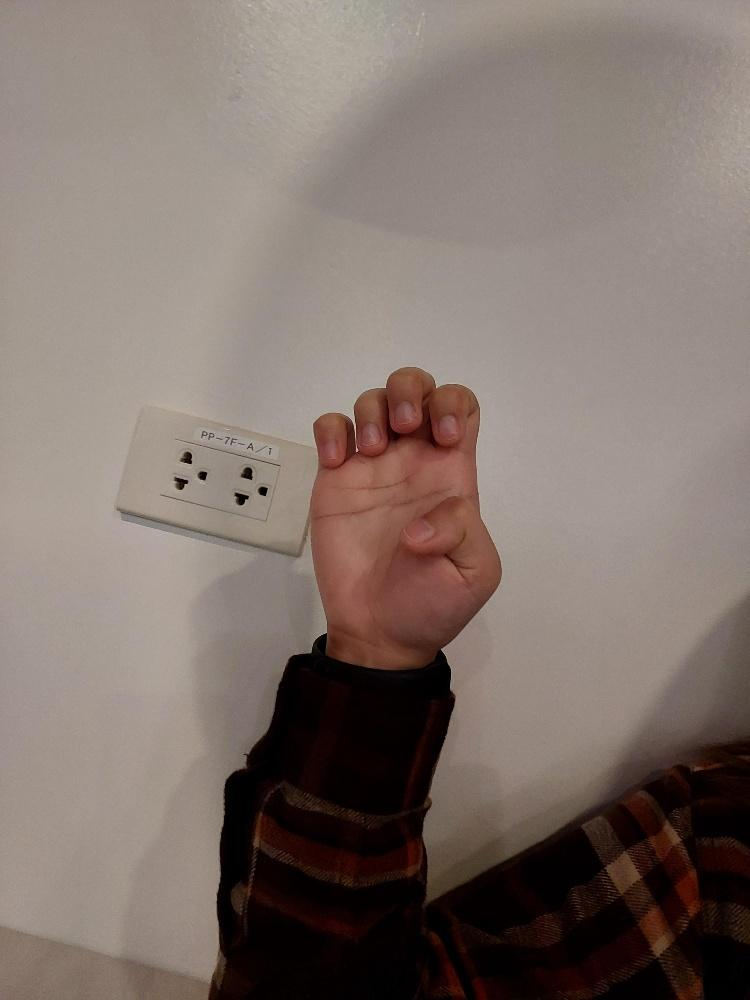e: (300, 357, 511, 665)
